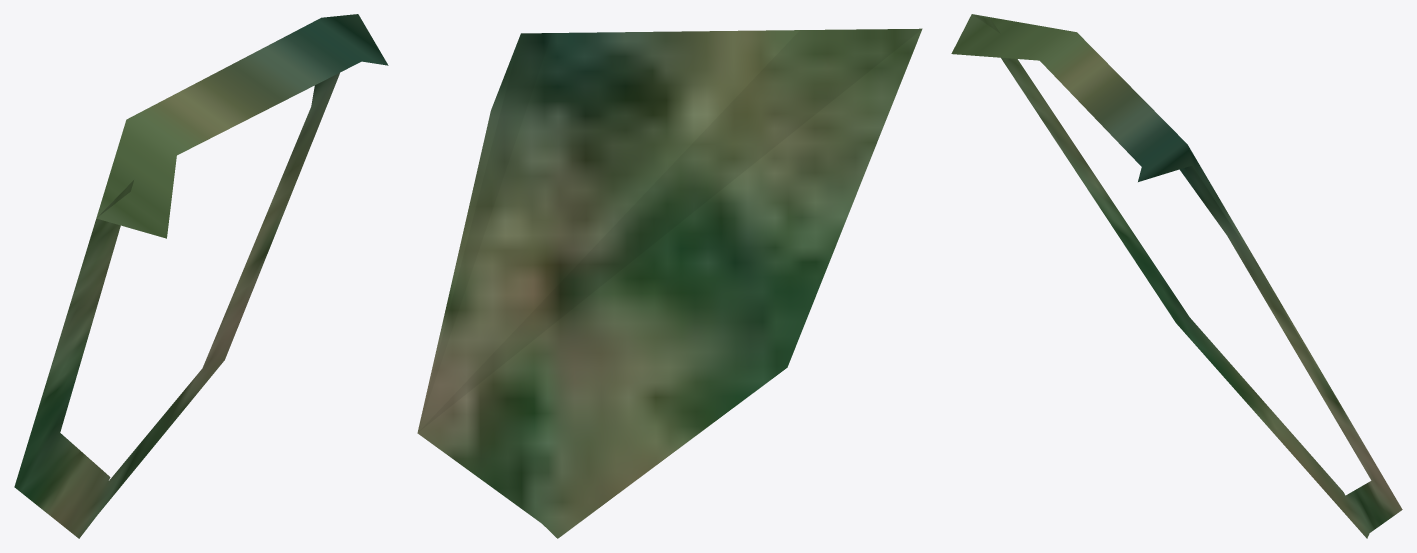
The picture shows the model from 3 angles, left to right: view 1: azimuth 30°, elevation 25°; view 2: azimuth 150°, elevation 25°; view 3: azimuth 270°, elevation 25°; orthographic projection. The views are drawn at different scales.
Bounding box in the file's own units: 225 × 306 × 276.
Materials: 1 (1 with a texture image).
